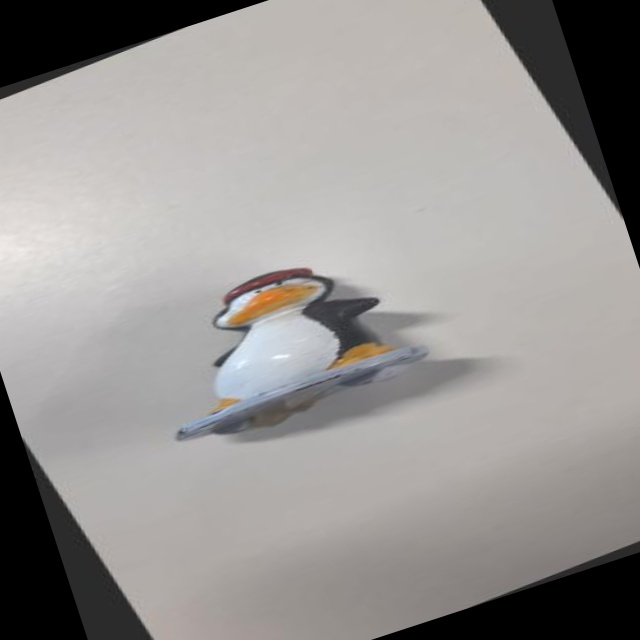Penguin: (113, 219, 444, 466)
